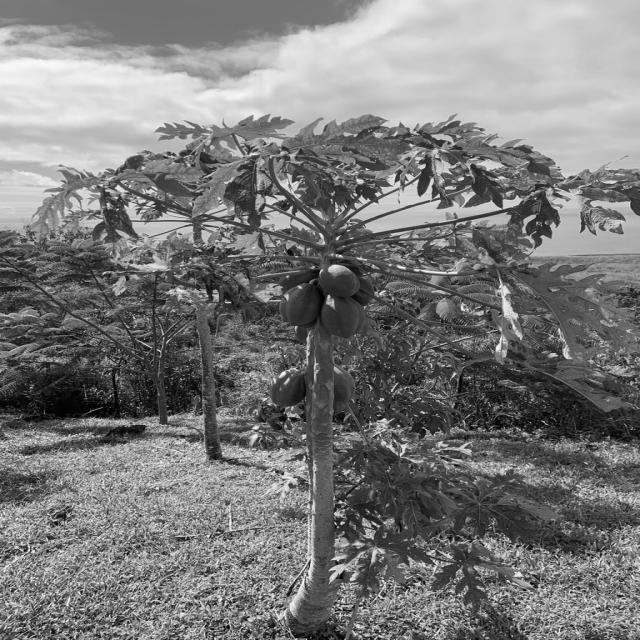Papaya-Tree: (37, 112, 640, 598)
